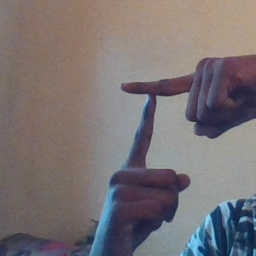T: (105, 61, 214, 182)
